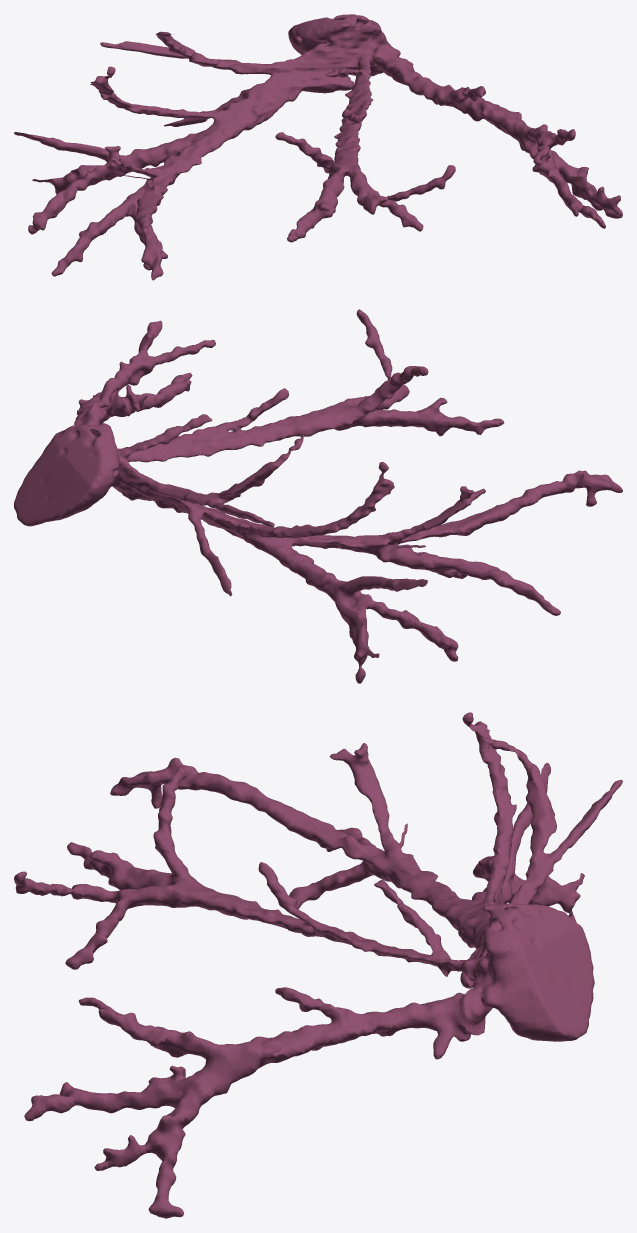
Rendered from liver_hepatic_vein.glb.
3 views of the same model, one above another, from view 1: azimuth 30°, elevation 25°; view 2: azimuth 150°, elevation 25°; view 3: azimuth 270°, elevation 25° (orthographic). The views are drawn at different scales.
Visible parts, largest first — view 1: Default; view 2: Default; view 3: Default.
Part boxes in pixels (bbox=[...]): Default: bbox=[14, 14, 622, 280]; Default: bbox=[14, 309, 622, 683]; Default: bbox=[14, 712, 622, 1218].
Bounding box in the file's own units: 1 × 0.3385 × 0.7375.
